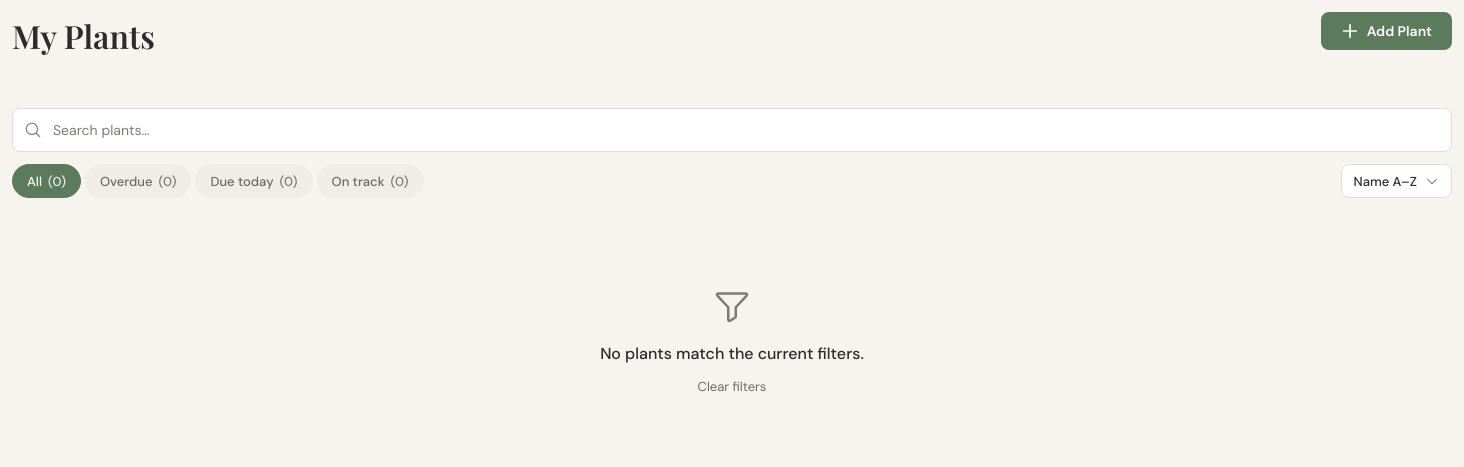
Scenario: InventoryPage — empty states (SPEC §5) › §5a — search empty state shows "No plants match your search." with Clear filters
Type "xyz" into the search field labelled "Search plants".
click(732, 130); type("xyz")  # box [12,108,1452,152]
Wait 300 ms
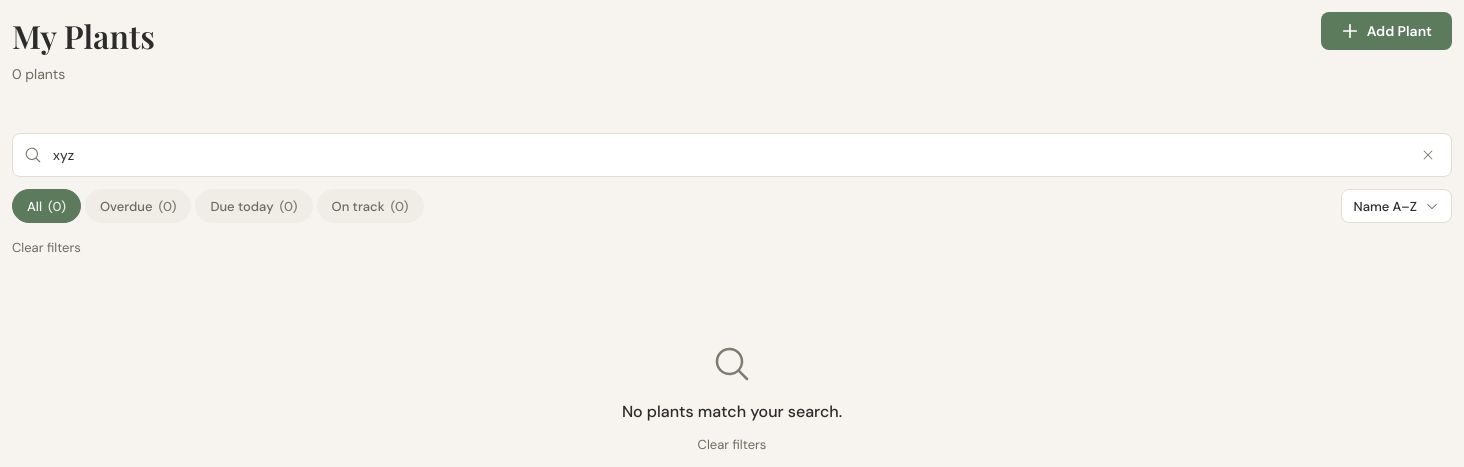
Expected: the text "No plants match your search." is shown, [622,400,842,424]
